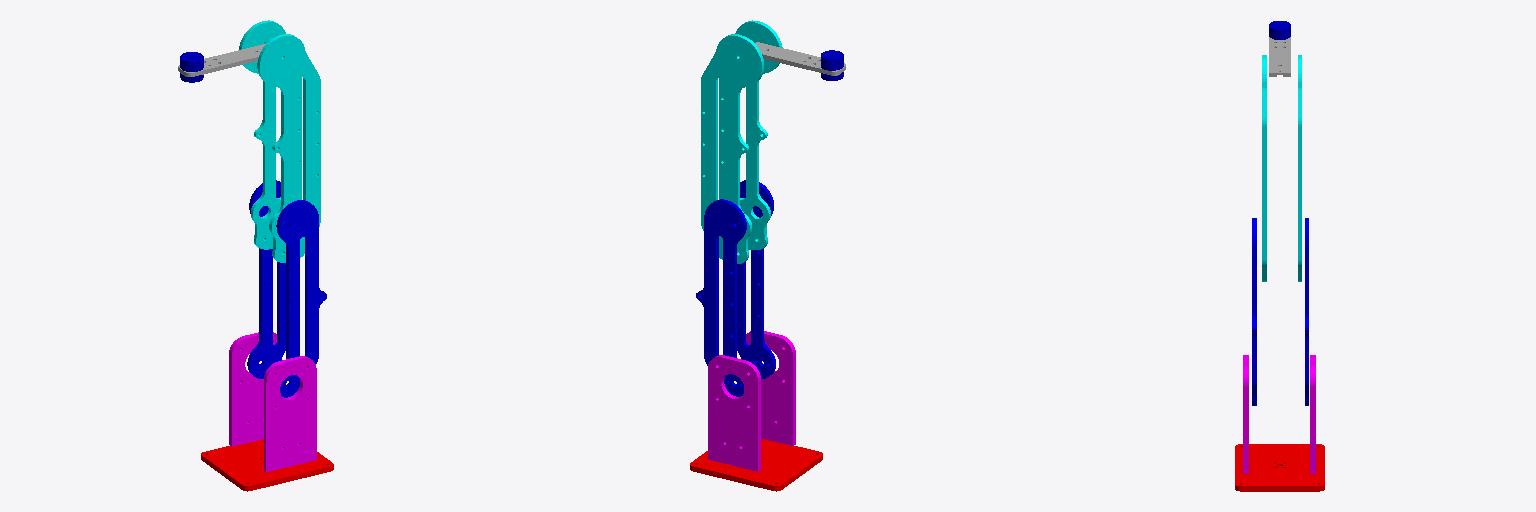
robot.urdf — four_dof:
<robot name="four_dof">

  <link name="base_link">
    <visual>
      <geometry>
        <mesh
          filename="package://four_dof_description/meshes/base_link.STL"
          scale="0.001 0.001 0.001" />
      </geometry>
      <material
        name="">
        <color
          rgba="1 0 0 1" />
      </material>
      <origin rpy="0 0 0" xyz="-0.05 -0.04 0"/>
    </visual>
    <collision>
      <geometry>
        <mesh
          filename="package://four_dof_description/meshes/base_link.STL"
          scale="0.001 0.001 0.001" />
      </geometry>
      <origin rpy="0 0 0" xyz="-0.05 -0.04 0"/>
    </collision>
  </link>

  <link name="link1">
    <visual>
      <geometry>
        <mesh
          filename="package://four_dof_description/meshes/link1.STL"
          scale="0.001 0.001 0.001" />
      </geometry>
      <material
        name="">
        <color
          rgba="1 0 1 1" />
      </material>
      <origin rpy="1.57075 0 0" xyz="-0.025 -0.028 0.01"/>
    </visual>
    <collision>
      <geometry>
        <mesh
          filename="package://four_dof_description/meshes/link1.STL"
          scale="0.001 0.001 0.001" />
      </geometry>
      <origin rpy="1.57075 0 0" xyz="-0.025 -0.028 0.01"/>
    </collision>
  </link>

  <link name="link12">
    <visual>
      <geometry>
        <mesh
          filename="package://four_dof_description/meshes/link1.STL"
          scale="0.001 0.001 0.001" />
      </geometry>
      <material
        name="">
        <color
          rgba="1 0 1 1" />
      </material>
      <origin rpy="1.57075 0 0" xyz="-0.025 0.032 0.01"/>
    </visual>
    <collision>
      <geometry>
        <mesh
          filename="package://four_dof_description/meshes/link1.STL"
          scale="0.001 0.001 0.001" />
      </geometry>
      <origin rpy="1.57075 0 0" xyz="-0.025 0.032 0.01"/>
    </collision>
  </link>

  <link name="link2">
    <visual>
      <geometry>
        <mesh
          filename="package://four_dof_description/meshes/link2.STL"
          scale="0.001 0.001 0.001" />
       </geometry>
       <material
        name="">
        <color
          rgba="0 0 1 1" />
       </material>
      <origin rpy="0 -1.57075 -1.57075" xyz="-0.01 0.022 -0.015"/>
    </visual>
    <collision>
      <geometry>
        <mesh
          filename="package://four_dof_description/meshes/link2.STL"
          scale="0.001 0.001 0.001" />
      </geometry>
      <origin rpy="0 -1.57075 -1.57075" xyz="-0.01 0.022 -0.015"/>
    </collision>    
  </link>


  <link name="link22">
    <visual>
      <geometry>
        <mesh
          filename="package://four_dof_description/meshes/link2.STL"
          scale="0.001 0.001 0.001" />
       </geometry>
       <material
        name="">
        <color
          rgba="0 0 1 1" />
       </material>
      <origin rpy="0 -1.57075 -1.57075" xyz="-0.01 -0.025 -0.015"/>
    </visual>
    <collision>
      <geometry>
        <mesh
          filename="package://four_dof_description/meshes/link2.STL"
          scale="0.001 0.001 0.001" />
      </geometry>
      <origin rpy="0 -1.57075 -1.57075" xyz="-0.01 -0.025 -0.015"/>
    </collision> 
  </link>

  <link name="link3">
    <visual>
      <geometry>
        <mesh
          filename="package://four_dof_description/meshes/link3.STL"
          scale="0.001 0.001 0.001" />
      </geometry>
      <material
        name="">
        <color
          rgba="0 1 1 1" />
      </material>
      <origin rpy="0 -1.57075 -1.57075" xyz="-0.022 0.016 -0.04"/>
    </visual>
    <collision>
      <geometry>
        <mesh
          filename="package://four_dof_description/meshes/link3.STL"
          scale="0.001 0.001 0.001" />
      </geometry>
      <origin rpy="0 -1.57075 -1.57075" xyz="-0.022 0.016 -0.04"/>
    </collision> 
  </link>

  <link name="link32">
    <visual>
      <geometry>
        <mesh
          filename="package://four_dof_description/meshes/link3.STL"
          scale="0.001 0.001 0.001" />
      </geometry>
      <material
        name="">
        <color
          rgba="0 1 1 1" />
      </material>
      <origin rpy="0 -1.57075 -1.57075" xyz="-0.022 -0.016 -0.04"/>
    </visual>
    <collision>
      <geometry>
        <mesh
          filename="package://four_dof_description/meshes/link3.STL"
          scale="0.001 0.001 0.001" />
      </geometry>
      <origin rpy="0 -1.57075 -1.57075" xyz="-0.022 -0.016 -0.04"/>
    </collision>
  </link>

  <link name="link4">
    <visual>
      <geometry>
        <mesh
          filename="package://four_dof_description/meshes/link4.STL"
          scale="0.001 0.001 0.001" />
      </geometry>
      <origin rpy="0 3.14 0" xyz="0 -0.01 0"/>
    </visual>
    <collision>
      <geometry>
        <mesh
          filename="package://four_dof_description/meshes/link4.STL"
          scale="0.001 0.001 0.001" />
      </geometry>
      <origin rpy="0 3.14 0" xyz="0 -0.01 0"/>
    </collision>
  </link>

  <link name="link5">
    <visual>
      <geometry>
        <cylinder length="0.02" radius="0.01"/>
      </geometry>
      <origin rpy="0 0 0" xyz="-0.08 0 0"/>
      <material name="blue">
        <color rgba="0 0 .8 1"/>
      </material>
    </visual>
  </link>

  <joint name="joint0" type="revolute">
    <parent link="base_link"/>
    <child link="link1"/>
    <origin xyz="0 0 0" rpy="0 0 0" />
    <axis xyz="0 0 1" />
    <limit
      lower="-3.14"
      upper="3.14"
      effort="2"
      velocity="0.03" />
  </joint>

  <joint name="joint02" type="fixed">
    <parent link="link1"/>
    <child link="link12"/>
    <origin xyz="0 0 0" rpy="0 0 0" />
    <axis xyz="0 0 0" />
  </joint>

  <joint name="joint1" type="revolute">
    <parent link="link1"/>
    <child link="link2"/>
    <origin xyz="0 0 0.085" rpy="0 0 0" />
    <axis xyz="0 -1 0" />
    <limit
      lower="-3.14"
      upper="3.14"
      effort="2"
      velocity="0.03" />
  </joint>

  <joint name="joint12" type="fixed">
    <parent link="link2"/>
    <child link="link22"/>
    <origin xyz="0 0 0" rpy="0 0 0" />
    <axis xyz="0 0 0" />
  </joint>

  <joint name="joint2" type="revolute">
    <parent link="link2"/>
    <child link="link3"/>
    <origin xyz="0 0 0.15" rpy="0 0 0" />
    <axis xyz="0 -1 0" />
    <limit
      lower="-3.14"
      upper="3.14"
      effort="2"
      velocity="0.03" />
  </joint>

  <joint name="joint22" type="fixed">
    <parent link="link3"/>
    <child link="link32"/>
    <origin xyz="0 0 0" rpy="0 0 0" />
    <axis xyz="0 0 0" />
   </joint>

  <joint name="joint3" type="revolute">
    <parent link="link3"/>
    <child link="link4"/>
    <origin xyz="0 0 0.16" rpy="0 0 0" />
    <axis xyz="0 -1 0" />
    <limit
      lower="-3.14"
      upper="3.14"
      effort="2"
      velocity="0.03" />
  </joint>

  <joint name="joint4" type="fixed">
    <parent link="link4"/>
    <child link="link5"/>
    <origin xyz="0 0 0" rpy="0 0 0" />
    <axis xyz="0 -1 0" />
  </joint>

</robot>

--- Facts derived from the render (not from the file) ---
Views: 3 orthographic renders of the robot side by side, from view 1: azimuth 30°, elevation 25°; view 2: azimuth 150°, elevation 25°; view 3: azimuth 270°, elevation 25°.
Model four_dof with 9 links and 8 joints (4 revolute, 4 fixed), rooted at base_link, posed all joints at 0.
Visible links, largest first — view 1: link32, link1, link22, link3, link2, link12, base_link, link4, link5; view 2: link3, link2, link12, link32, link1, base_link, link22, link4, link5; view 3: base_link, link32, link22, link3, link4, link2, link1, link12.
Boxes of the visible links, x1,y1,x2,y2 form: link32: (257,34,320,262); link1: (264,356,316,471); link22: (276,200,326,397); link3: (239,20,301,249); link2: (247,180,285,378); link12: (229,332,276,446); base_link: (201,439,333,491); link4: (178,43,266,76); link5: (180,52,203,82); link3: (701,34,763,263); link2: (696,199,746,396); link12: (708,355,760,471); link32: (719,20,782,249); link1: (746,331,795,445); base_link: (690,439,822,491); link22: (737,180,775,378); link4: (755,42,845,75); link5: (821,50,843,80); base_link: (1235,444,1324,491); link32: (1262,55,1266,281); link22: (1252,218,1256,405); link3: (1298,55,1301,281); link4: (1269,37,1290,76); link2: (1305,218,1308,405); link1: (1243,355,1248,473); link12: (1310,355,1315,473).
Bounding box of the posed robot: 0.1302 × 0.08 × 0.4117 m (x, y, z).
Meshes: 5 distinct files referenced, 8 mesh visuals loaded (5 binary STL).